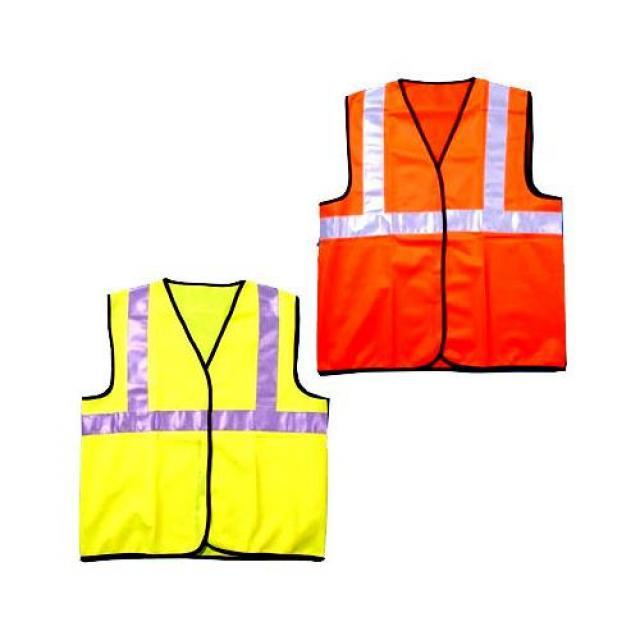reflective_jacket: (294, 67, 579, 380), (65, 272, 341, 567)
